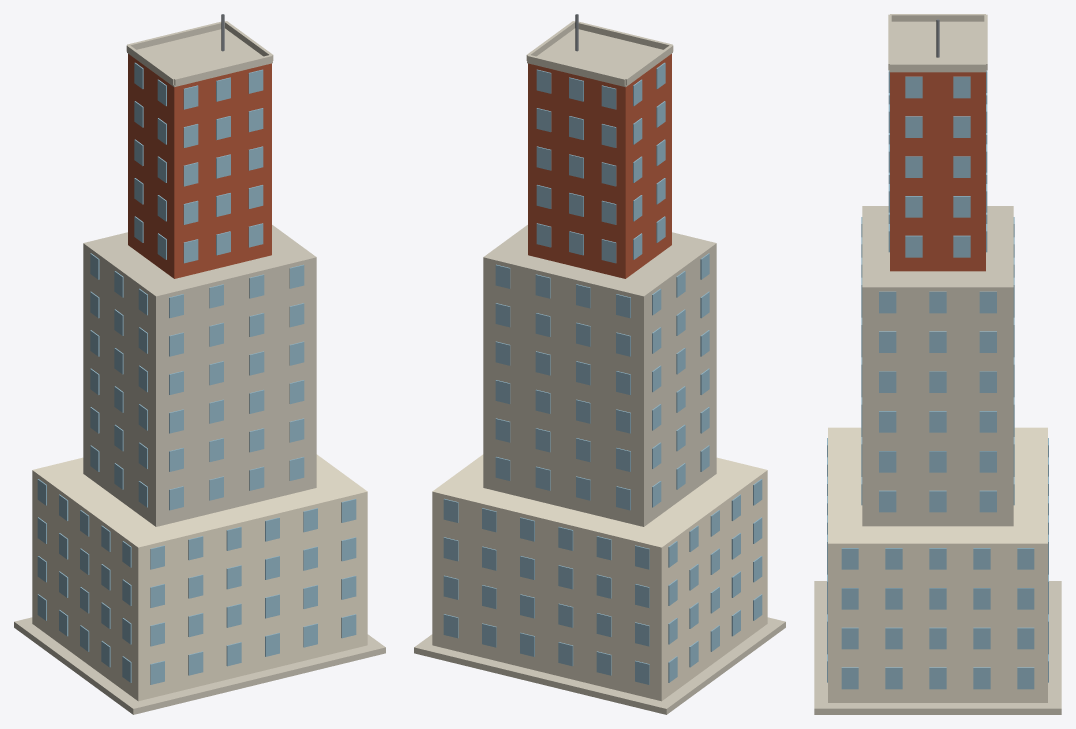
The model's file is building.skyscraper-setback.glb.
3 views of the same model, side by side, from view 1: azimuth 30°, elevation 25°; view 2: azimuth 150°, elevation 25°; view 3: azimuth 270°, elevation 25° (orthographic). The views are drawn at different scales.
Visible parts, largest first — view 1: building.skyscraper-setback; view 2: building.skyscraper-setback; view 3: building.skyscraper-setback.
Part boxes in pixels (x1,y1,x2,y2): building.skyscraper-setback: [14, 14, 385, 714]; building.skyscraper-setback: [414, 14, 785, 714]; building.skyscraper-setback: [814, 14, 1061, 714].
Bounding box in the file's own units: 22 × 51.65 × 18.
